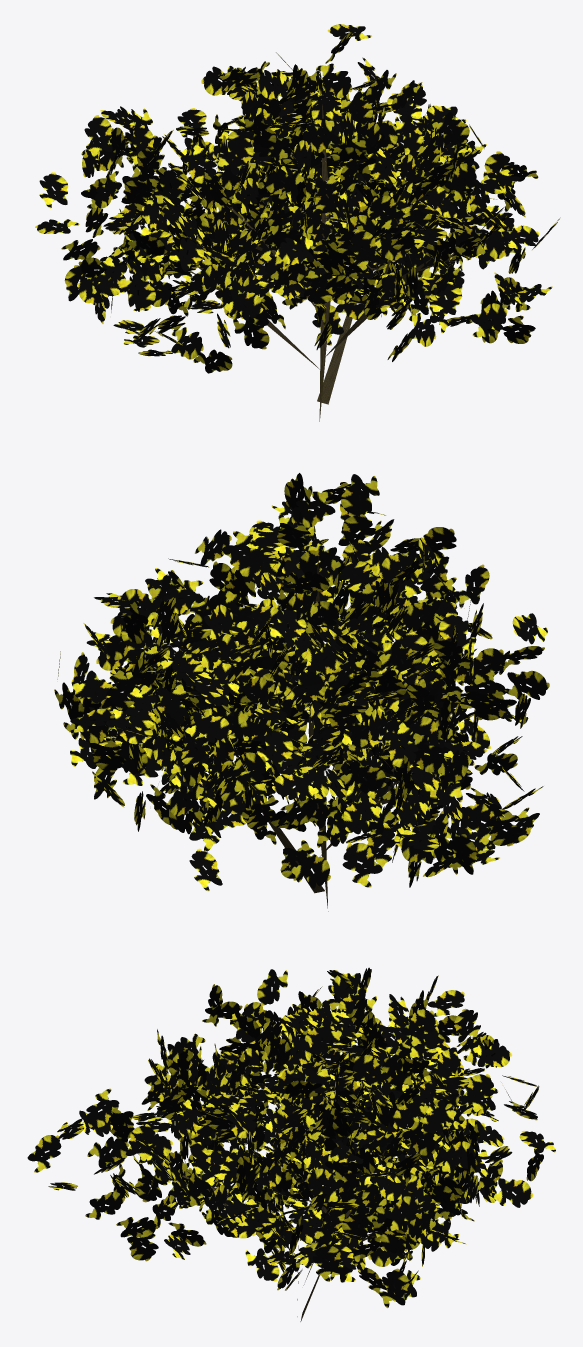
Rendered from understory_laurel_v03_LOD2.fbx.
The picture shows the model from 3 angles, top to bottom: view 1: azimuth 30°, elevation 25°; view 2: azimuth 150°, elevation 25°; view 3: azimuth 270°, elevation 25°; orthographic projection. The views are drawn at different scales.
Visible parts, largest first — view 1: understory_laurel_v03_LOD2; view 2: understory_laurel_v03_LOD2; view 3: understory_laurel_v03_LOD2.
Boxes of the visible parts, x1,y1,x2,y2 form: understory_laurel_v03_LOD2: (35, 24, 560, 421); understory_laurel_v03_LOD2: (54, 473, 549, 911); understory_laurel_v03_LOD2: (27, 967, 555, 1321).
Bounding box in the file's own units: 830 × 961 × 658.
2 materials, 2 textured.
